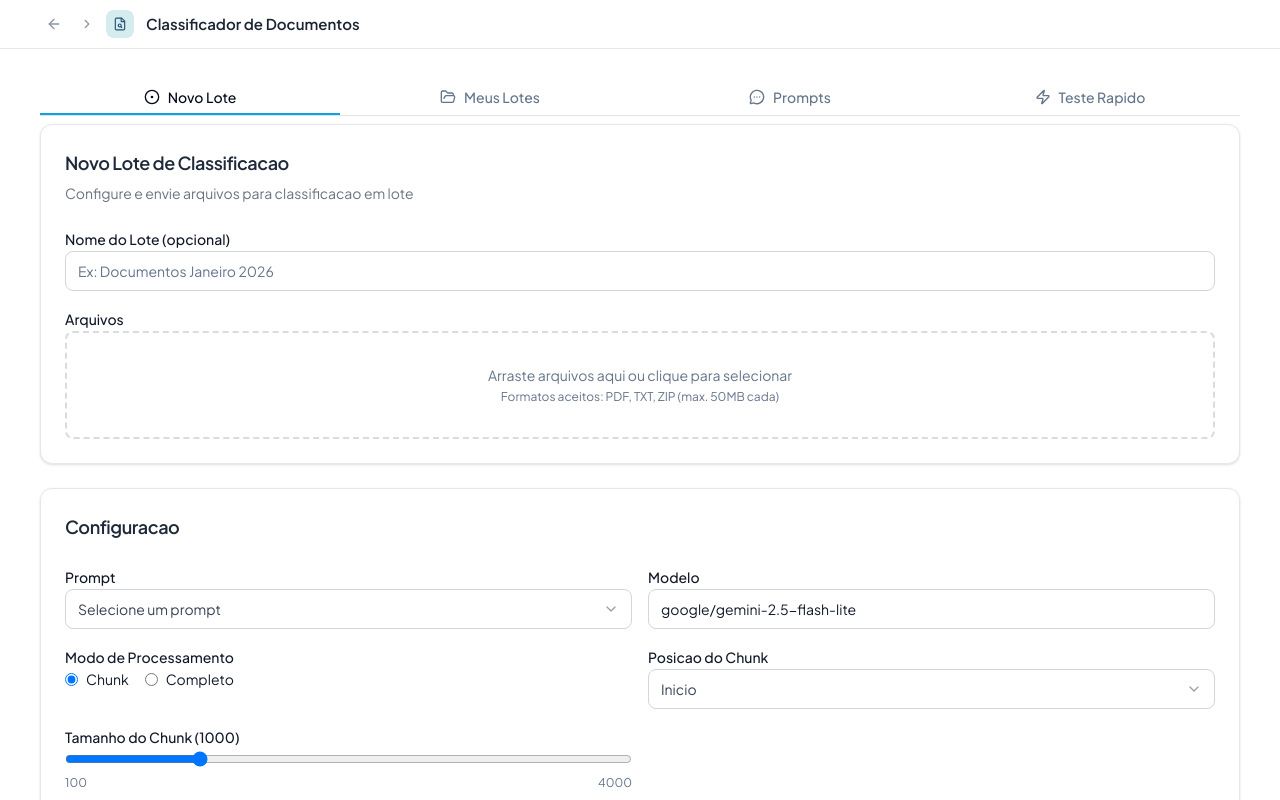
Test: ClassificadorPage › deve mostrar aba Teste Rapido com botao Classificar quando clicada
The image size is (1280, 800).
Click the tab "Teste Rapido".
click(1090, 98)  # box top-left (940, 81), bottom-right (1240, 115)
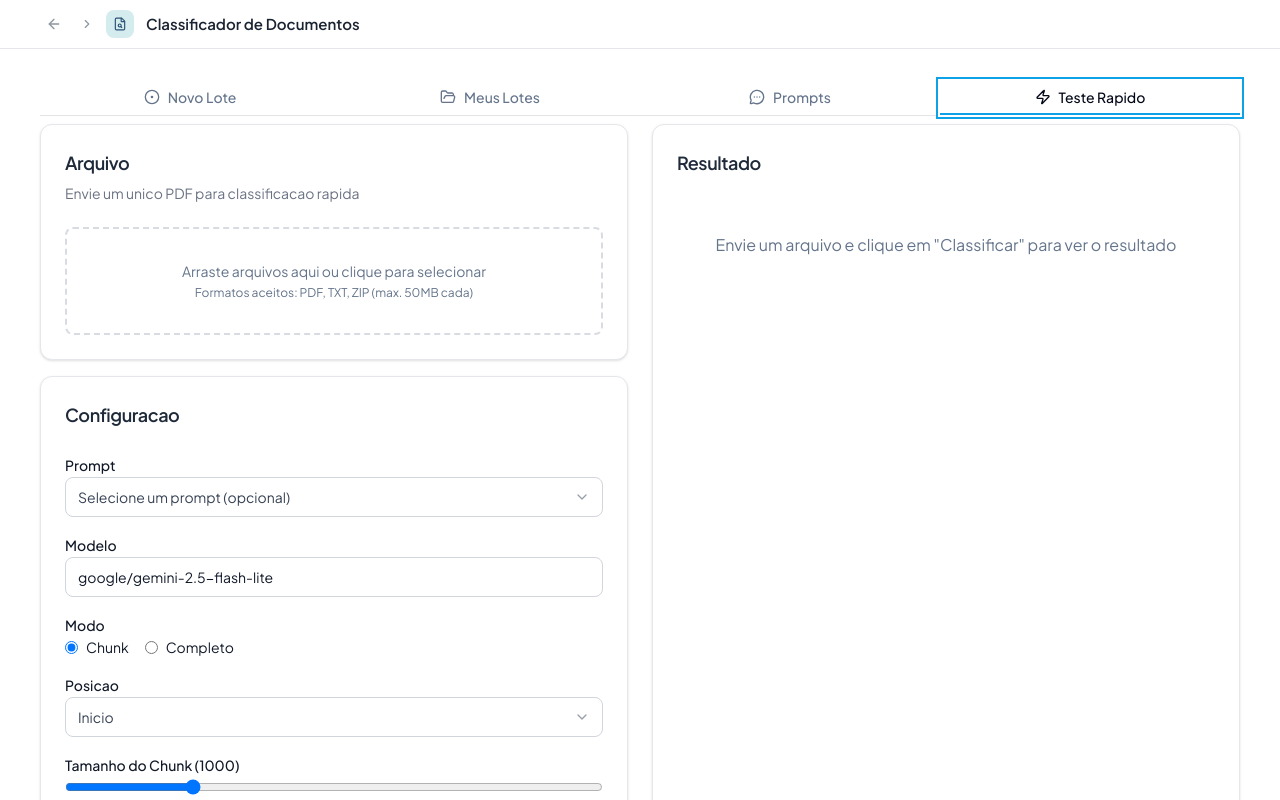
Expected: the heading "Resultado" is shown, top-left (677, 151), bottom-right (761, 174)
